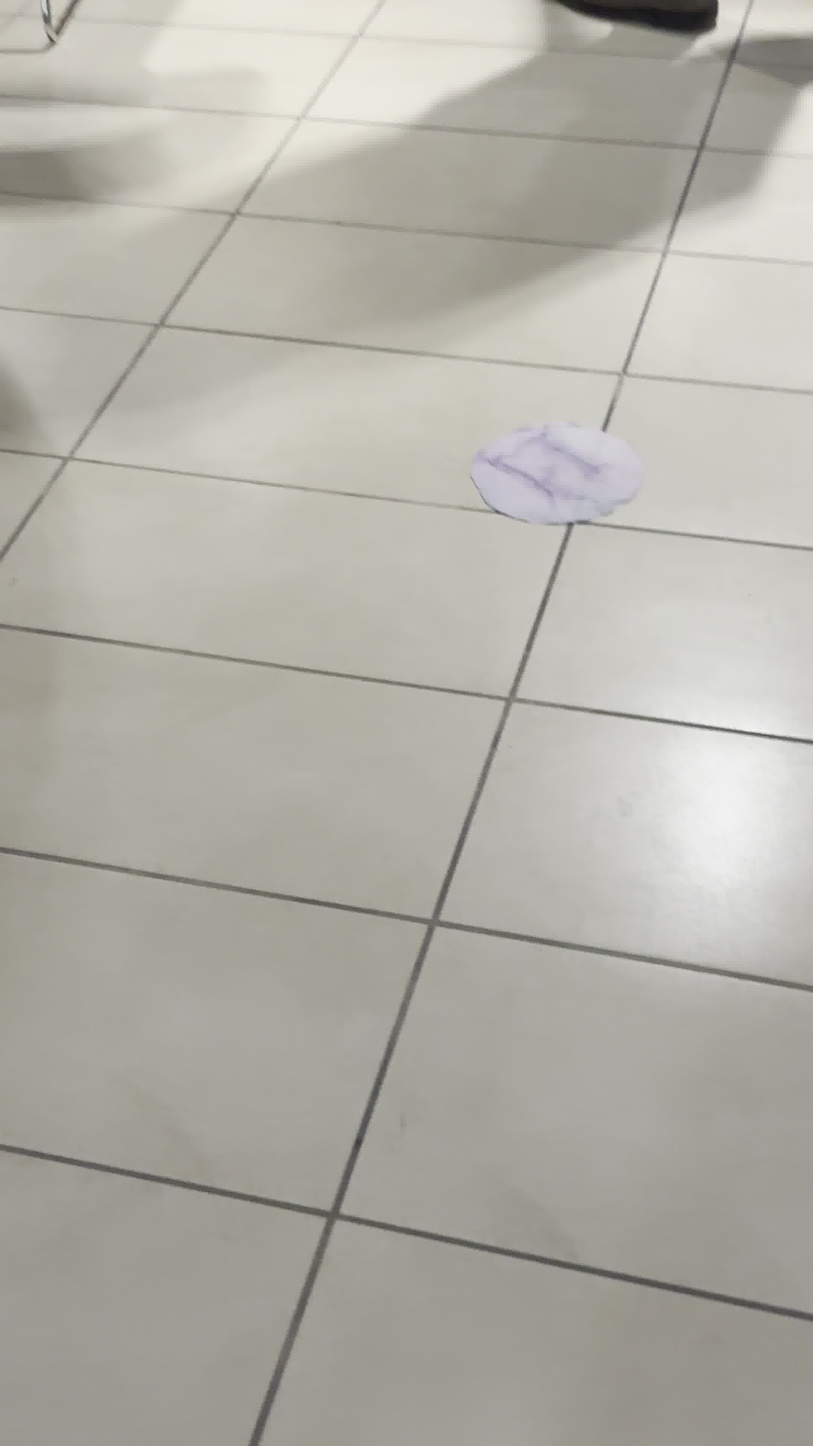Target: (478, 419, 645, 524)
